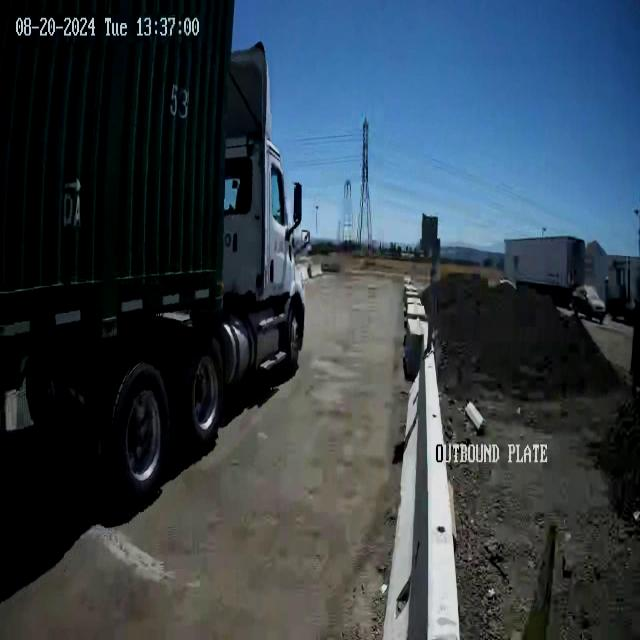TRUCK_CONTAINER: (1, 2, 308, 512)
